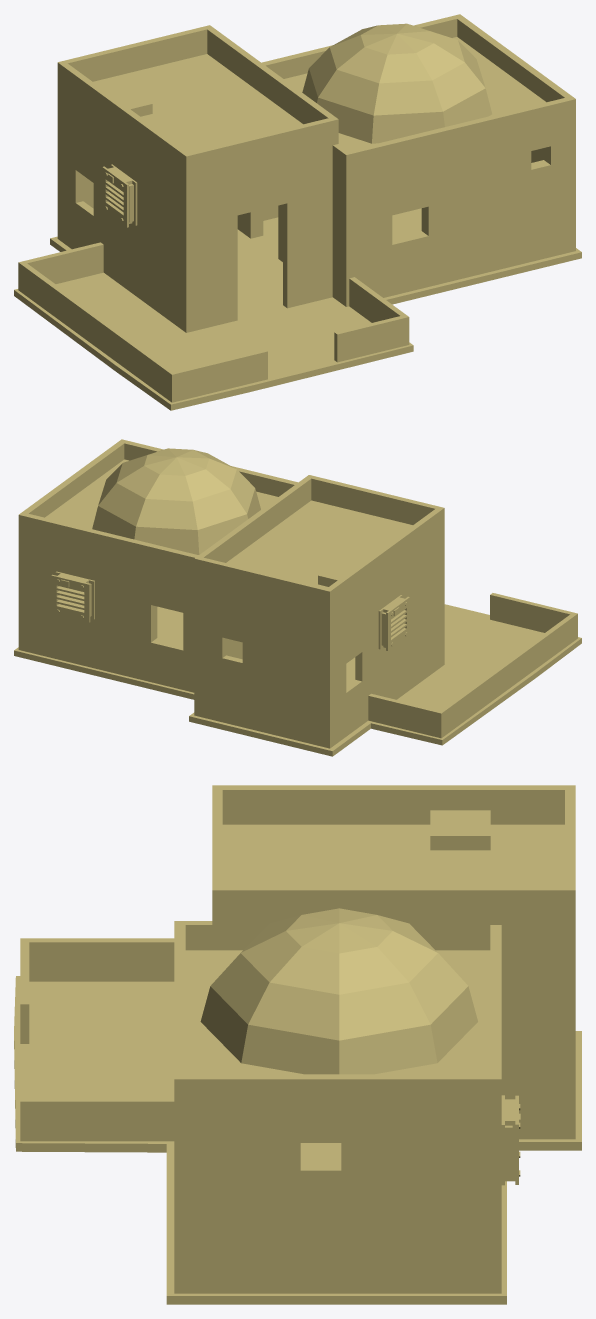
Rendered from DesertBuilding9.fbx.
The picture shows the model from 3 angles, top to bottom: view 1: azimuth 30°, elevation 25°; view 2: azimuth 150°, elevation 25°; view 3: azimuth 270°, elevation 25°; orthographic projection. The views are drawn at different scales.
Visible parts, largest first — view 1: Cube.016, Cube.017, Sphere.007; view 2: Cube.016, Cube.017, Sphere.007; view 3: Cube.016, Cube.017, Sphere.007.
Part boxes in pixels (left/top/right/bottom): Cube.016: left=57, top=14, right=575, bottom=332; Cube.017: left=14, top=208, right=581, bottom=410; Sphere.007: left=302, top=23, right=491, bottom=143; Cube.016: left=18, top=439, right=444, bottom=748; Cube.017: left=14, top=593, right=581, bottom=756; Sphere.007: left=92, top=448, right=260, bottom=554; Cube.016: left=174, top=785, right=575, bottom=1293; Cube.017: left=14, top=938, right=581, bottom=1304; Sphere.007: left=200, top=908, right=477, bottom=1074.
Size of the model in its own units: 1178 by 507 by 882.
